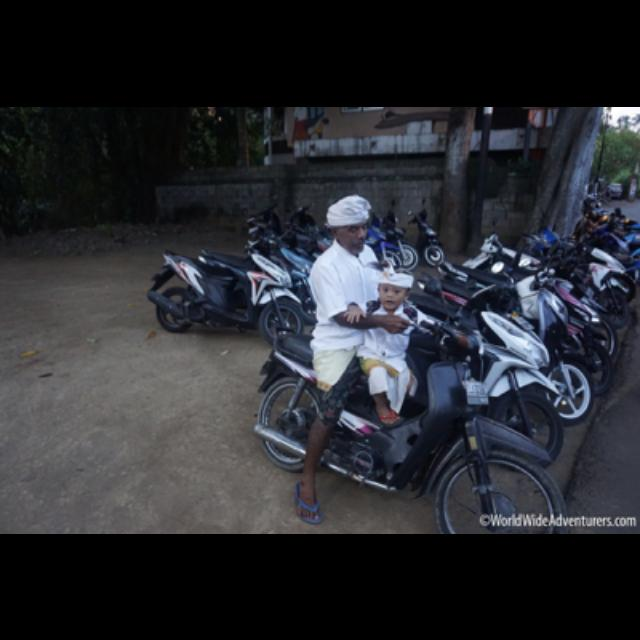Without Helmet: (321, 188, 379, 258)
